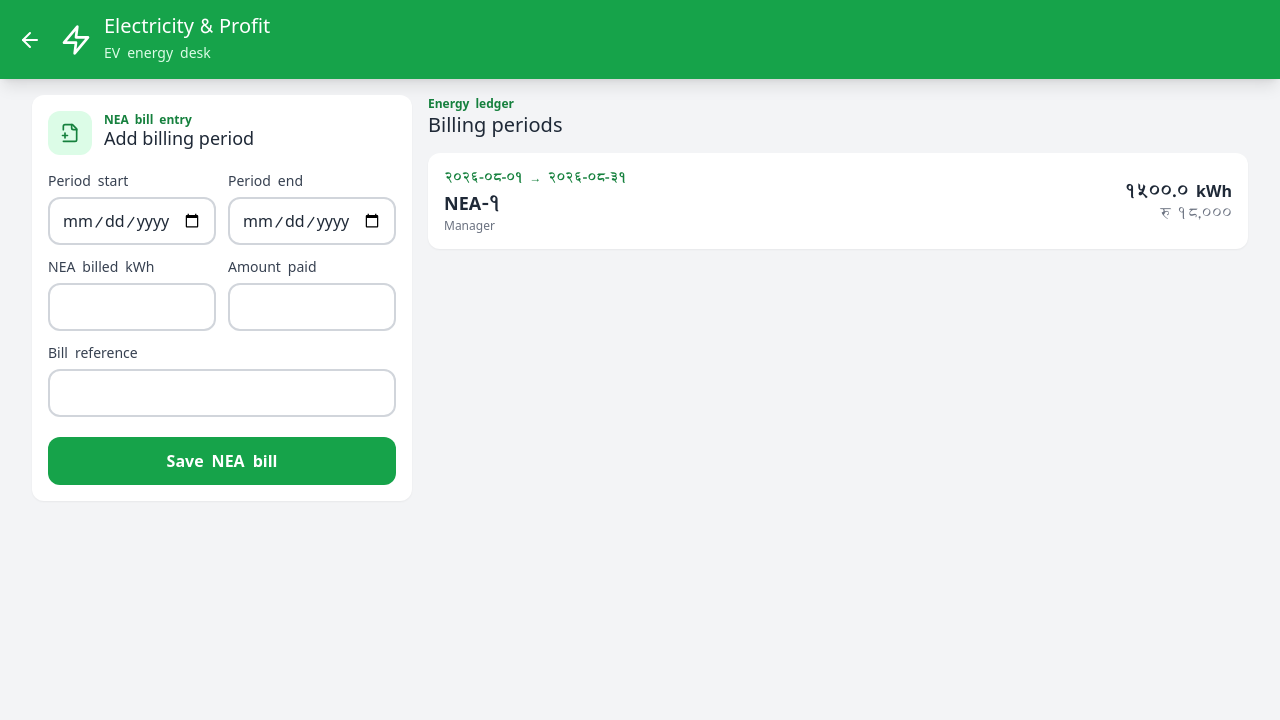
EvElectricityPage › lists the bills and opens the profit reconciliation for a manager
Click the text "NEA-1".
click(473, 203)  # box left=444, top=188, right=502, bottom=218
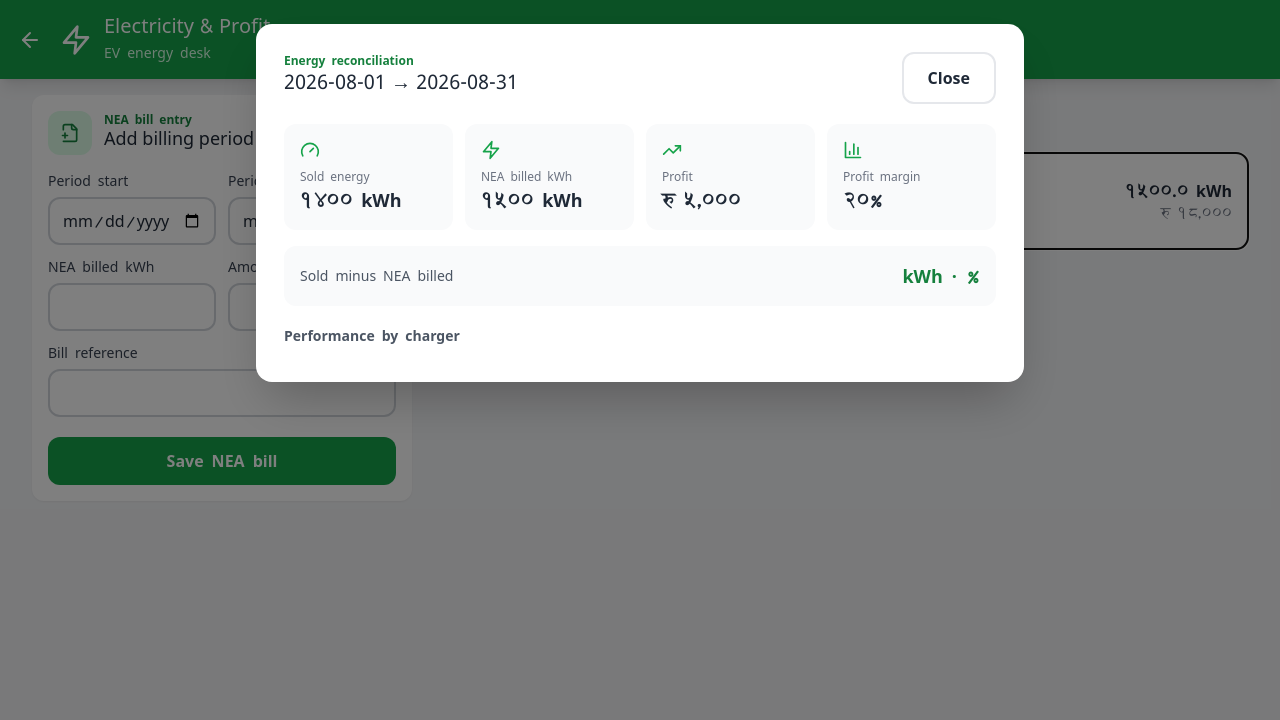
Check: the heading "Add billing period" is shown, box left=104, top=127, right=254, bottom=155
Check: the text "Energy reconciliation" is shown, box left=284, top=50, right=414, bottom=70
